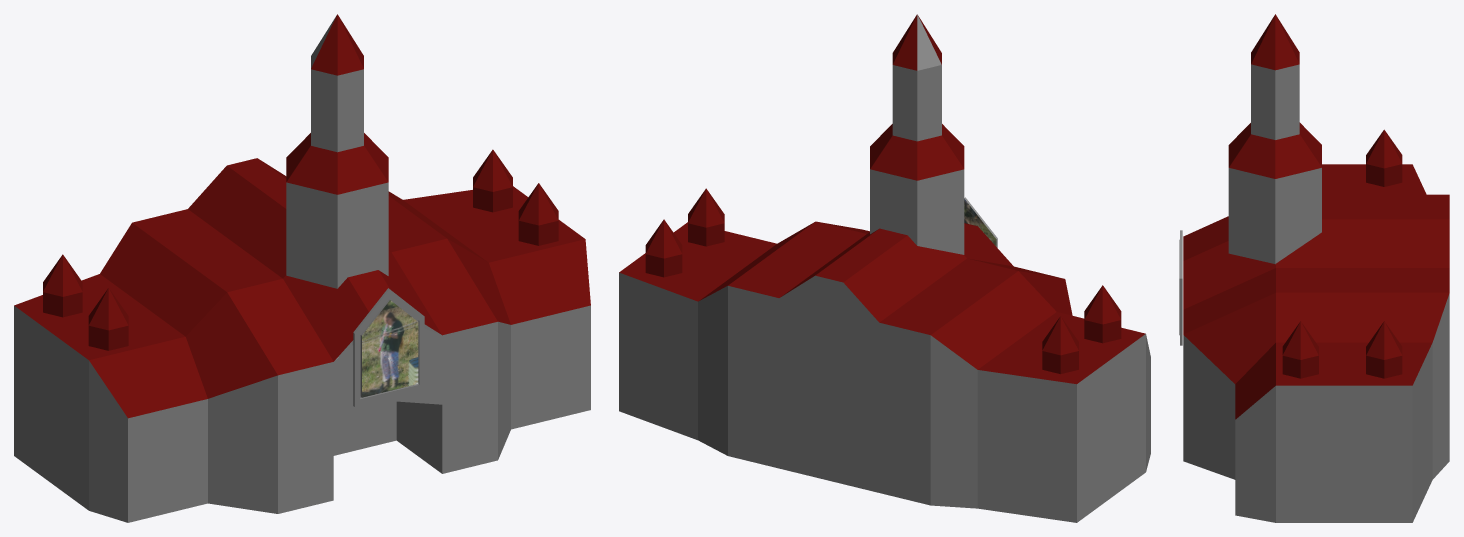
The model's file is castle.glb.
3 views of the same model, side by side, from view 1: azimuth 30°, elevation 25°; view 2: azimuth 150°, elevation 25°; view 3: azimuth 270°, elevation 25° (orthographic). The views are drawn at different scales.
Parts seen in each view (by area): view 1: Cube, Cylinder, Cylinder.001, Cube.002; view 2: Cube, Cylinder, Cylinder.001; view 3: Cube, Cylinder, Cylinder.001, Cube.002.
Boxes of the visible parts, x1=… form: Cube: x1=14, y1=158, x2=590, y2=522; Cylinder: x1=286, y1=14, x2=388, y2=288; Cylinder.001: x1=43, y1=149, x2=558, y2=350; Cube.002: x1=353, y1=288, x2=424, y2=406; Cube: x1=619, y1=221, x2=1150, y2=522; Cylinder: x1=870, y1=14, x2=964, y2=254; Cylinder.001: x1=645, y1=188, x2=1121, y2=374; Cube: x1=1183, y1=164, x2=1449, y2=522; Cylinder: x1=1228, y1=14, x2=1321, y2=264; Cylinder.001: x1=1282, y1=129, x2=1402, y2=378; Cube.002: x1=1179, y1=230, x2=1182, y2=345.
Bounding box in the file's own units: 85.09 × 71.44 × 43.95.
3 materials, 1 textured.
